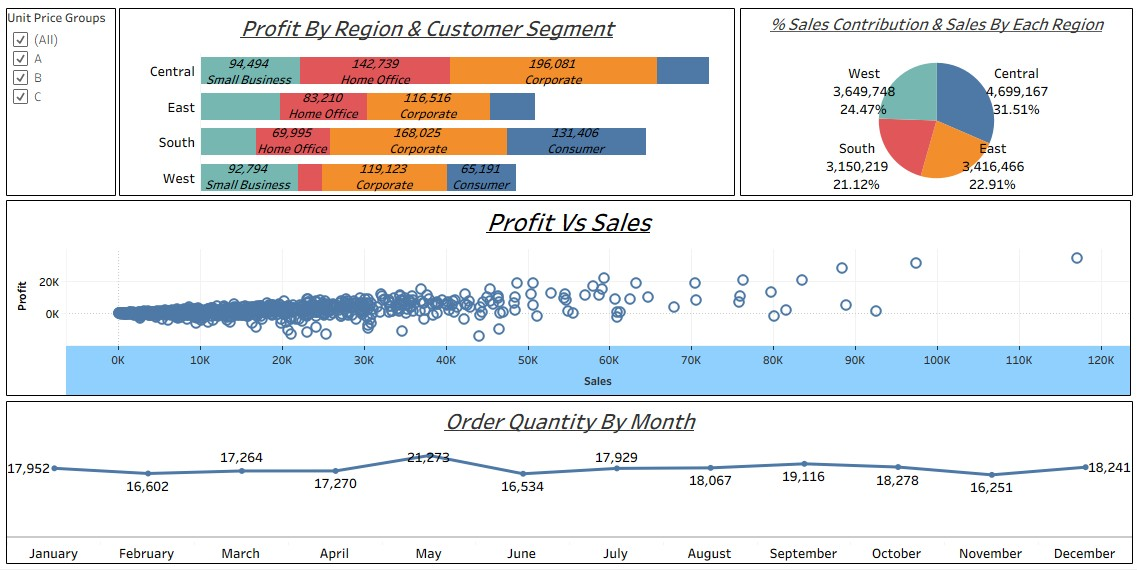

Layout of this report page (visuals, bound fields, positions):
{"tool":"tableau","page":{"name":"Dashboard 1","canvas":[1000,1000],"units":"permille","ordinal":0},"visuals":[{"type":"filter","title":"Line Chart","param":"[federated.07axaxx113huea16jakb70swiddk].[none:Calculation_0123202729123840:nk]","box":[6.2,14.1,96.6,331]},{"type":"worksheet","title":"Bar Chart","mark":"Automatic","rows":["Region"],"cols":["Profit"],"box":[105.4,14.1,540.8,331]},{"type":"worksheet","title":"Pie Chart","mark":"Pie","box":[650.6,14.1,345,331]},{"type":"worksheet","title":"Scatter Plot","mark":"Automatic","rows":["Profit"],"cols":["Sales"],"box":[6.2,352.1,987.7,345.1]},{"type":"worksheet","title":"Line Chart","mark":"Line","rows":["Order Quantity"],"cols":["Order Date"],"box":[6.2,706,989.5,287]}]}

Visuals, with their boxes on the dashboard's canvas, which has no fixed pixel size, in thousandths of its width and height (x1, y1, x2, y2). These are canvas units, not pixel positions in the 1137x570 screenshot, which may show the page scaled, cropped or inside an application window:
"Line Chart" filter: <box>6,14,103,345</box>
"Bar Chart" worksheet: <box>105,14,646,345</box>
"Pie Chart" worksheet (Pie marks): <box>651,14,996,345</box>
"Scatter Plot" worksheet: <box>6,352,994,697</box>
"Line Chart" worksheet (Line marks): <box>6,706,996,993</box>
